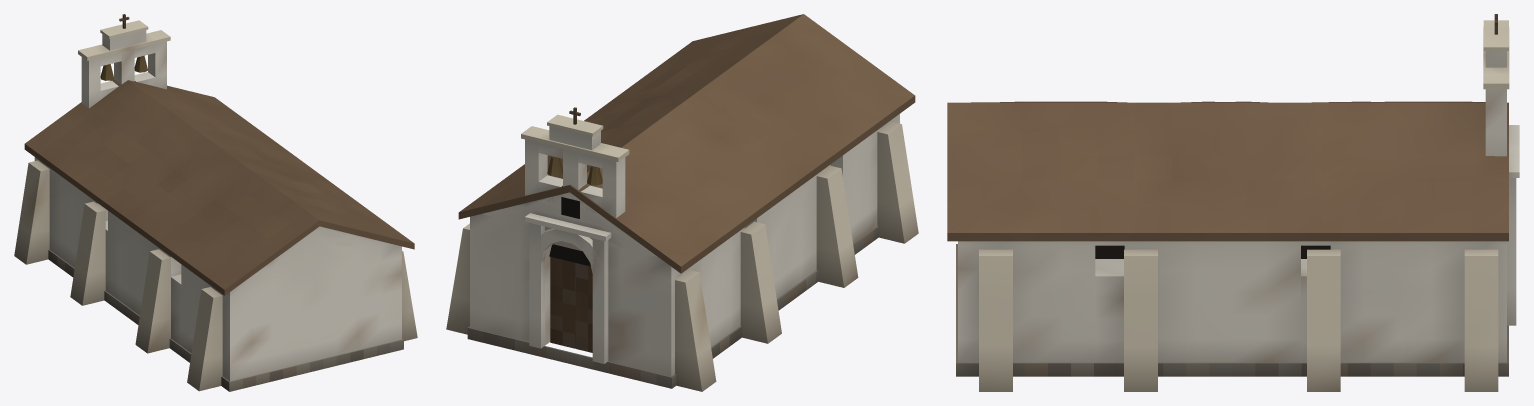
File: casa_capilla_a.glb
3 views of the same model, side by side, from view 1: azimuth 30°, elevation 25°; view 2: azimuth 150°, elevation 25°; view 3: azimuth 270°, elevation 25° (orthographic). The views are drawn at different scales.
Parts seen in each view (by area): view 1: casa_capilla_a; view 2: casa_capilla_a; view 3: casa_capilla_a.
Part boxes in pixels (bbox=[...]): casa_capilla_a: bbox=[14, 14, 417, 391]; casa_capilla_a: bbox=[446, 14, 918, 391]; casa_capilla_a: bbox=[947, 14, 1519, 391].
Size of the model in its own units: 8.4 by 7.9 by 13.55.
